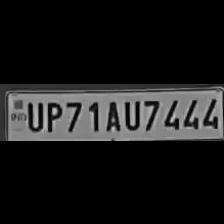1: (84, 98, 103, 132)
4: (160, 96, 180, 130), (198, 94, 218, 128), (180, 95, 198, 129)
7: (63, 98, 83, 132), (140, 97, 158, 131)
A: (101, 97, 121, 130)
P: (43, 98, 62, 132)
U: (23, 99, 43, 131), (122, 96, 140, 130)
